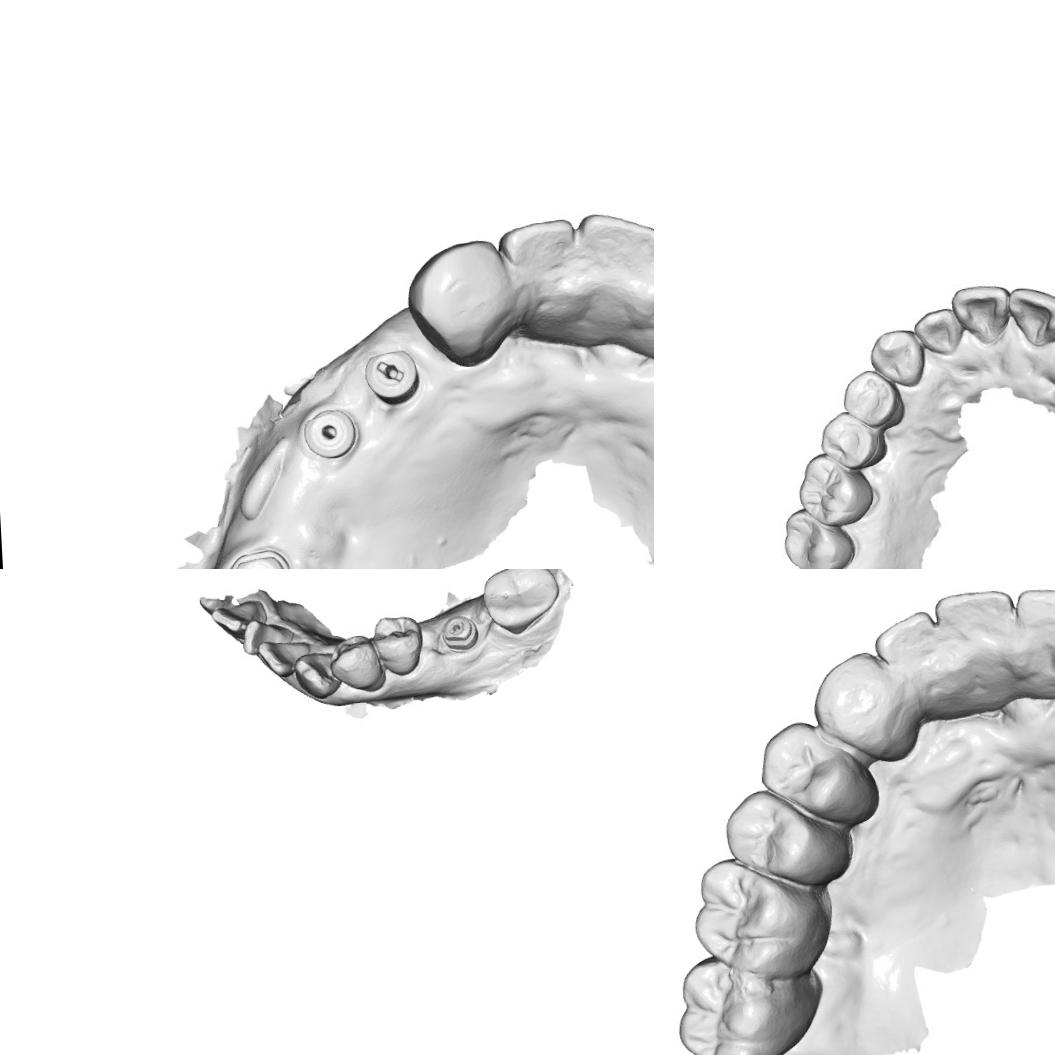canine: (402, 235, 512, 358), (807, 648, 903, 745), (868, 326, 928, 391), (291, 648, 339, 700)
implant: (304, 410, 356, 460)
implant_minus: (360, 346, 422, 406), (224, 542, 291, 569), (438, 612, 480, 652)
incisor: (496, 216, 582, 330), (574, 205, 654, 297), (930, 583, 1017, 667), (871, 608, 939, 682), (948, 283, 1010, 346), (1012, 583, 1055, 672), (1005, 283, 1055, 349), (911, 305, 960, 356), (255, 637, 313, 680), (240, 616, 298, 657), (208, 598, 260, 634)
molar: (687, 850, 823, 974), (673, 949, 829, 1055), (795, 451, 875, 527), (478, 569, 562, 636), (777, 508, 854, 569)
premolar: (718, 784, 830, 883), (755, 717, 860, 822), (816, 408, 888, 472), (838, 367, 902, 429), (368, 613, 426, 678), (326, 632, 383, 690)
